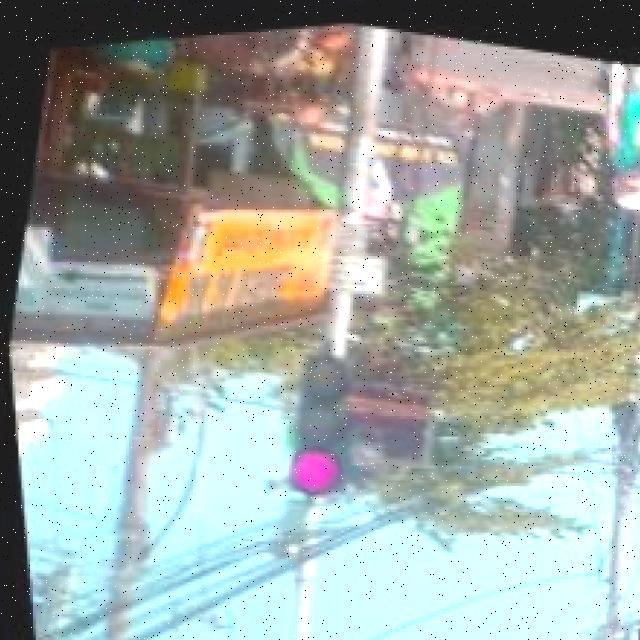Lampu Merah: (272, 338, 364, 494)
